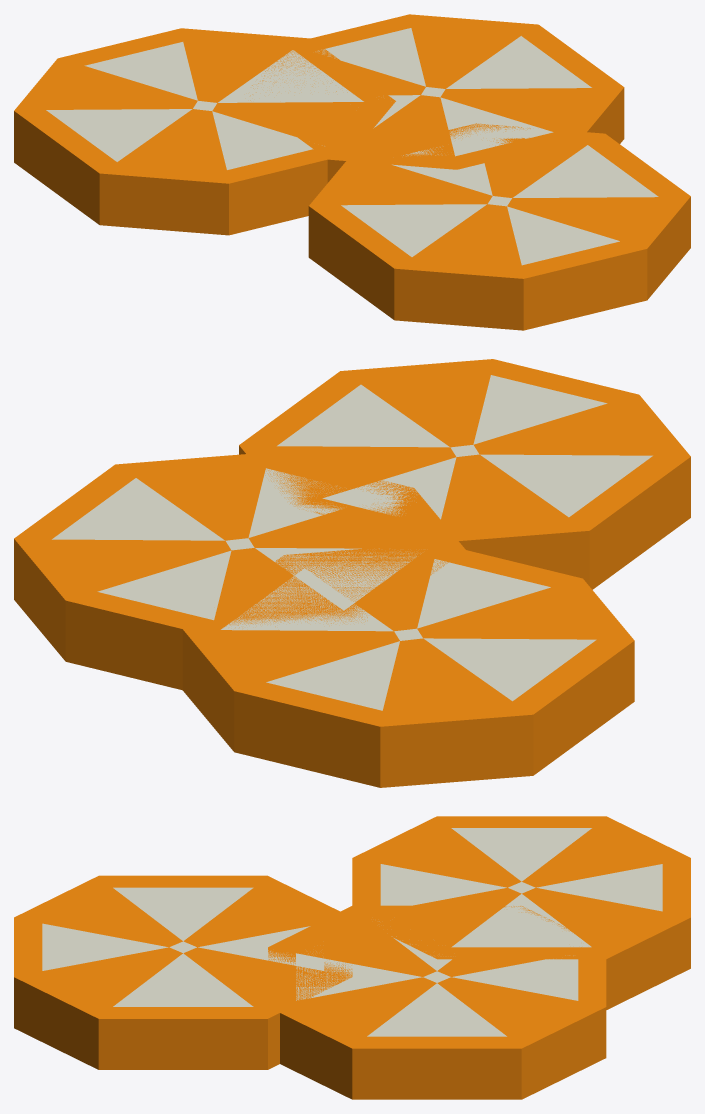
3 views of the same model, one above another, from view 1: azimuth 30°, elevation 25°; view 2: azimuth 150°, elevation 25°; view 3: azimuth 270°, elevation 25° (orthographic). The views are drawn at different scales.
Parts seen in each view (by area): view 1: 2772; view 2: 2772; view 3: 2772.
Boxes of the visible parts, <box> form: 2772: <box>14,14,690,330</box>; 2772: <box>14,359,690,787</box>; 2772: <box>14,816,690,1099</box>.
Bounding box in the file's own units: 39 × 4 × 48.
